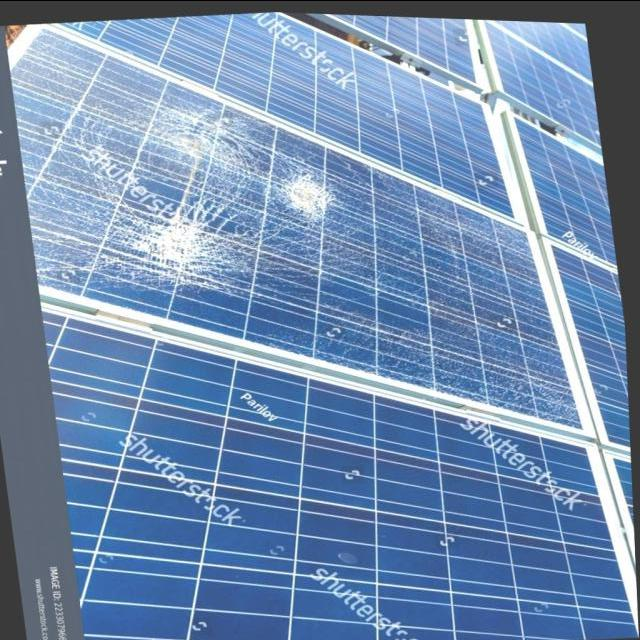cracked: (5, 28, 590, 428)
